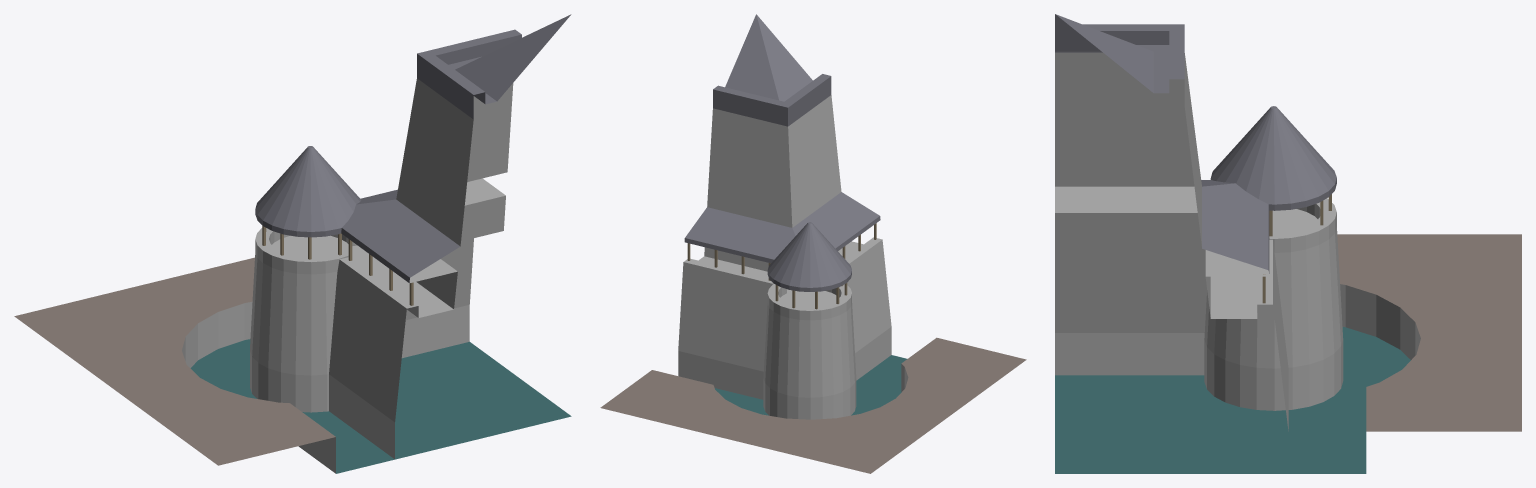
Rendered from rrcr.obj.
The picture shows the model from 3 angles, left to right: view 1: azimuth 30°, elevation 25°; view 2: azimuth 150°, elevation 25°; view 3: azimuth 270°, elevation 25°; orthographic projection. The views are drawn at different scales.
Parts seen in each view (by area): view 1: rrcr; view 2: rrcr; view 3: rrcr.
Boxes of the visible parts, x1,y1,x2,y2 form: rrcr: [14, 14, 571, 473]; rrcr: [600, 14, 1026, 473]; rrcr: [1055, 14, 1521, 473].
Size of the model in its own units: 30 by 32.63 by 30.
